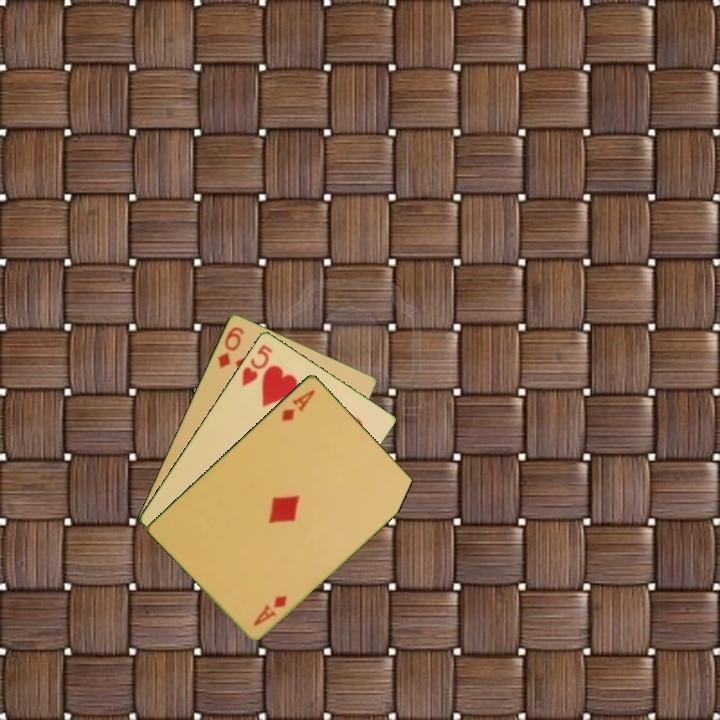5h: (238, 340, 276, 388)
6d: (214, 323, 247, 371)
Ad: (278, 386, 318, 424), (250, 591, 290, 629)
